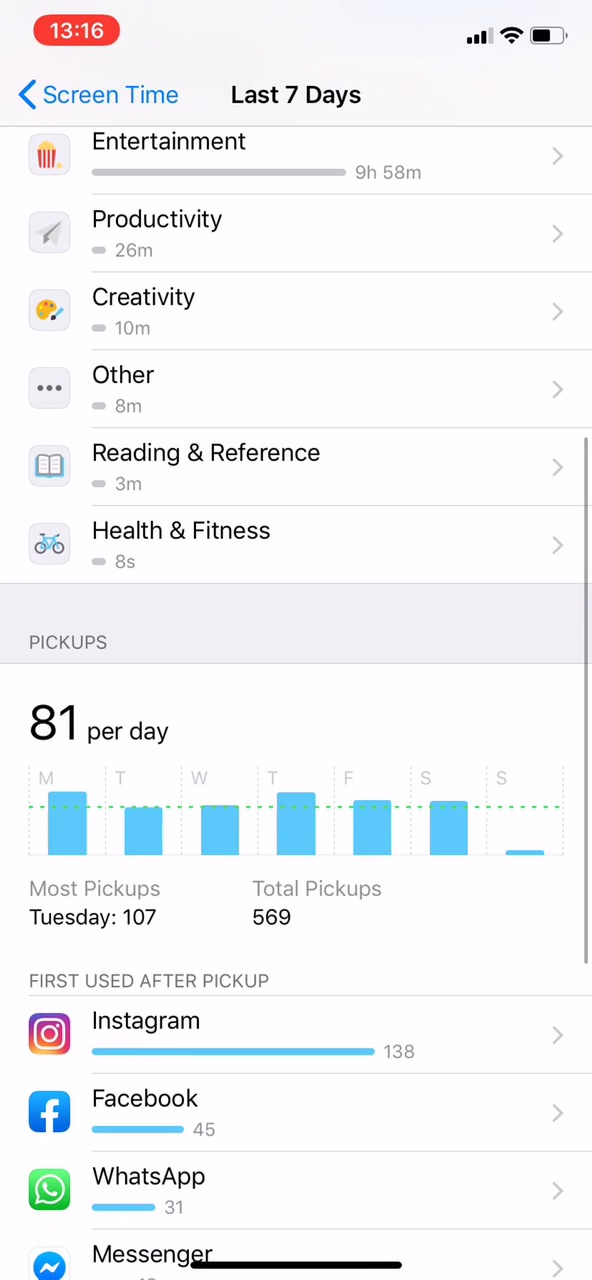pick_app: (26, 999, 434, 1071), (23, 1083, 243, 1150), (20, 1160, 247, 1224)
pick_over: (18, 872, 411, 950)
week: (211, 75, 378, 120)
